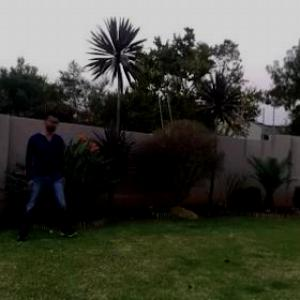follow: (24, 100, 66, 245)
